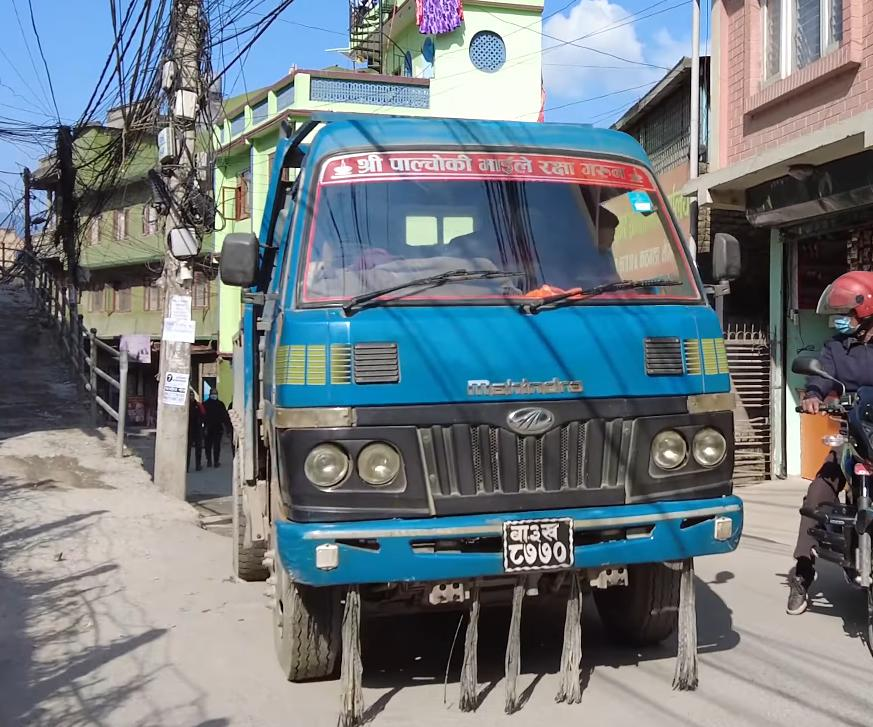bike: (777, 259, 873, 668)
mini_truck: (206, 96, 774, 690)
